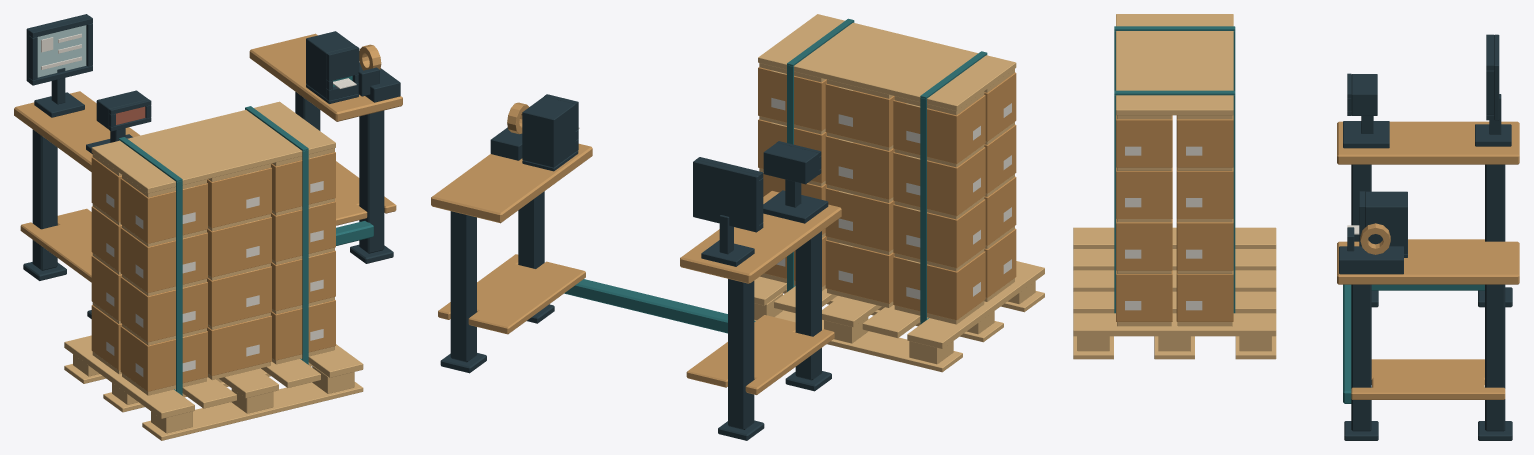
Rendered from receiver-workcell-fixture.glb.
The picture shows the model from 3 angles, left to right: view 1: azimuth 30°, elevation 25°; view 2: azimuth 150°, elevation 25°; view 3: azimuth 270°, elevation 25°; orthographic projection. The views are drawn at different scales.
Parts seen in each view (by area): view 1: receiver-workcell-fixture__batch_15, receiver-workcell-fixture__batch_14, receiver-workcell-fixture__batch_02, receiver-workcell-fixture__batch_00, receiver-workcell-fixture__batch_13, receiver-workcell-fixture__batch_04, receiver-workcell-fixture__batch_08, receiver-workcell-fixture__batch_06, receiver-workcell-fixture__batch_10, receiver-workcell-fixture__batch_11, receiver-workcell-fixture__batch_01, receiver-workcell-fixture__batch_09 (+1 smaller); view 2: receiver-workcell-fixture__batch_15, receiver-workcell-fixture__batch_14, receiver-workcell-fixture__batch_02, receiver-workcell-fixture__batch_00, receiver-workcell-fixture__batch_08, receiver-workcell-fixture__batch_04, receiver-workcell-fixture__batch_06, receiver-workcell-fixture__batch_13, receiver-workcell-fixture__batch_01, receiver-workcell-fixture__batch_11; view 3: receiver-workcell-fixture__batch_14, receiver-workcell-fixture__batch_15, receiver-workcell-fixture__batch_02, receiver-workcell-fixture__batch_00, receiver-workcell-fixture__batch_13, receiver-workcell-fixture__batch_06, receiver-workcell-fixture__batch_04, receiver-workcell-fixture__batch_08, receiver-workcell-fixture__batch_01, receiver-workcell-fixture__batch_11, receiver-workcell-fixture__batch_12.
Part boxes in pixels (x1,y1,x2,y2): receiver-workcell-fixture__batch_15: (91,152,335,391); receiver-workcell-fixture__batch_14: (64,101,363,440); receiver-workcell-fixture__batch_02: (14,33,402,282); receiver-workcell-fixture__batch_00: (23,92,393,318); receiver-workcell-fixture__batch_13: (119,106,308,395); receiver-workcell-fixture__batch_04: (306,31,359,103); receiver-workcell-fixture__batch_08: (26,14,92,117); receiver-workcell-fixture__batch_06: (86,90,151,153); receiver-workcell-fixture__batch_10: (37,25,86,77); receiver-workcell-fixture__batch_11: (358,62,400,102); receiver-workcell-fixture__batch_01: (336,221,373,245); receiver-workcell-fixture__batch_09: (41,33,81,69); receiver-workcell-fixture__batch_15: (758,67,1016,320); receiver-workcell-fixture__batch_14: (754,14,1044,372); receiver-workcell-fixture__batch_02: (431,143,841,394); receiver-workcell-fixture__batch_00: (440,191,831,440); receiver-workcell-fixture__batch_08: (693,157,763,266); receiver-workcell-fixture__batch_04: (522,94,578,171); receiver-workcell-fixture__batch_06: (763,141,828,223); receiver-workcell-fixture__batch_13: (787,18,987,324); receiver-workcell-fixture__batch_01: (564,279,755,333); receiver-workcell-fixture__batch_11: (490,127,522,160); receiver-workcell-fixture__batch_14: (1073,14,1276,359); receiver-workcell-fixture__batch_15: (1116,115,1233,321); receiver-workcell-fixture__batch_02: (1337,121,1519,399); receiver-workcell-fixture__batch_00: (1344,164,1512,440); receiver-workcell-fixture__batch_13: (1114,26,1235,313); receiver-workcell-fixture__batch_06: (1343,73,1389,148); receiver-workcell-fixture__batch_04: (1359,191,1407,257); receiver-workcell-fixture__batch_08: (1475,34,1511,146); receiver-workcell-fixture__batch_01: (1343,284,1484,403); receiver-workcell-fixture__batch_11: (1339,227,1403,274); receiver-workcell-fixture__batch_12: (1360,223,1390,254).
Bounding box in the file's own units: 2.19 × 1.4 × 2.2.
